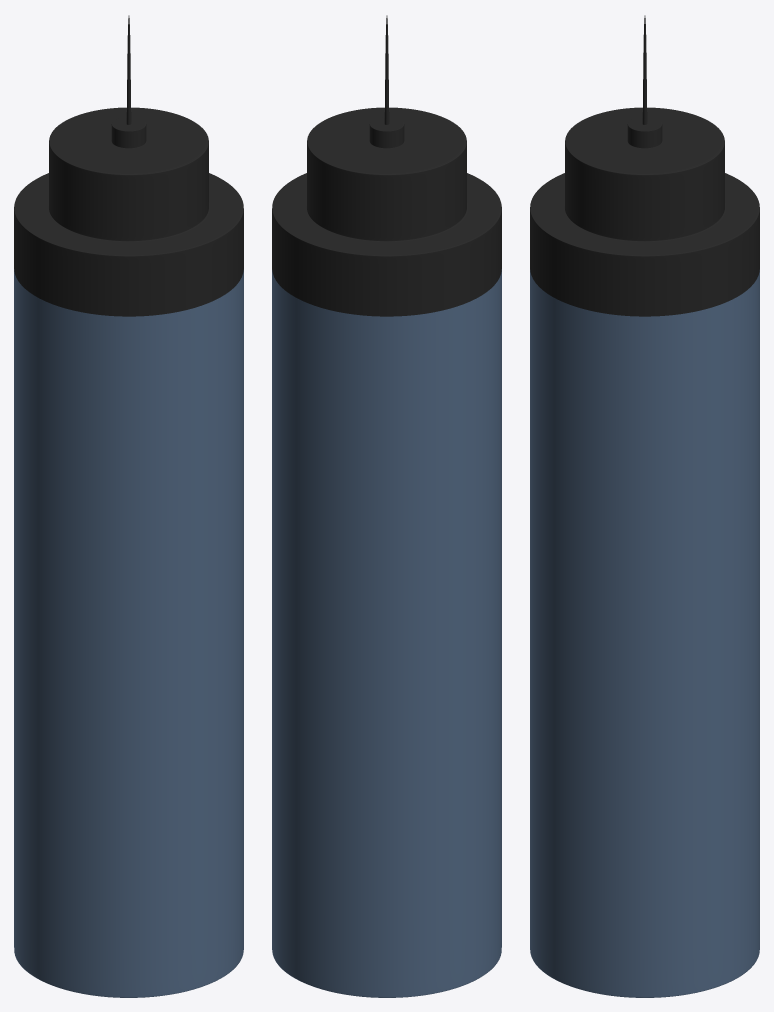
The model's file is skyscraper_06.fbx.
The picture shows the model from 3 angles, left to right: view 1: azimuth 30°, elevation 25°; view 2: azimuth 150°, elevation 25°; view 3: azimuth 270°, elevation 25°; orthographic projection.
Visible parts, largest first — view 1: Cylinder; view 2: Cylinder; view 3: Cylinder.
Part boxes in pixels (x1,y1,x2,y2): Cylinder: [14, 15, 243, 997]; Cylinder: [272, 15, 501, 997]; Cylinder: [530, 15, 759, 997].
Size of the model in its own units: 2567 by 11530 by 2569.
